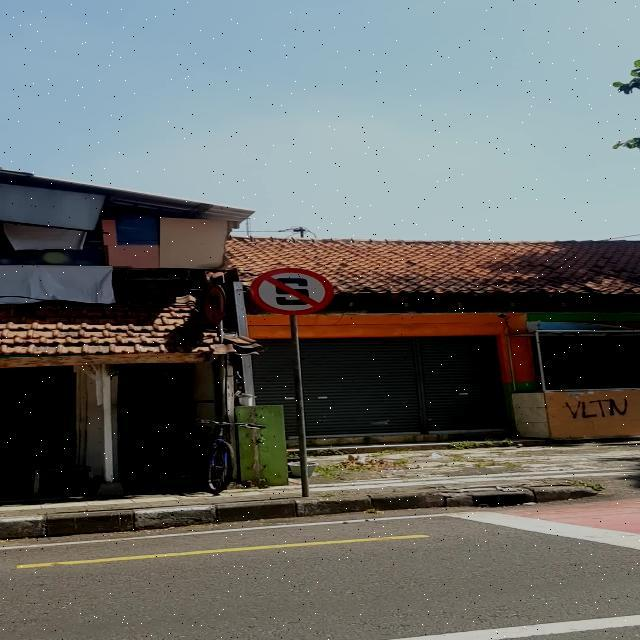Dilarang Berhenti: (250, 268, 334, 316)
